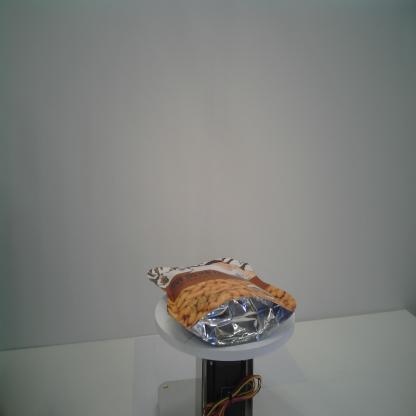Dried Fruit: (147, 257, 297, 348)
